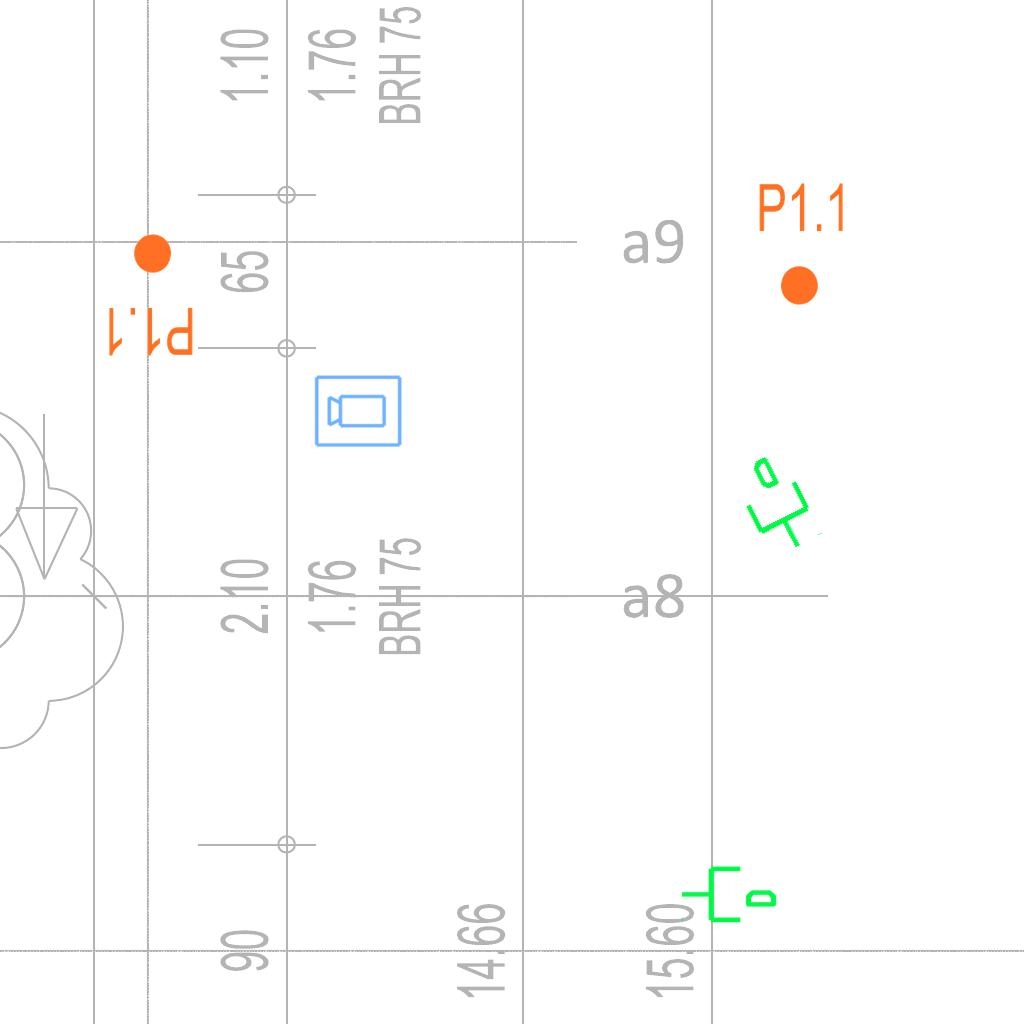Datenanschluss_einfach: (721, 444, 828, 566), (679, 858, 779, 927)
Downlight_LED_Einbauleuchten_Flur: (103, 231, 196, 359), (756, 180, 849, 308)
KFO_Kamera_mit_Festobjektiv: (313, 372, 404, 449)
